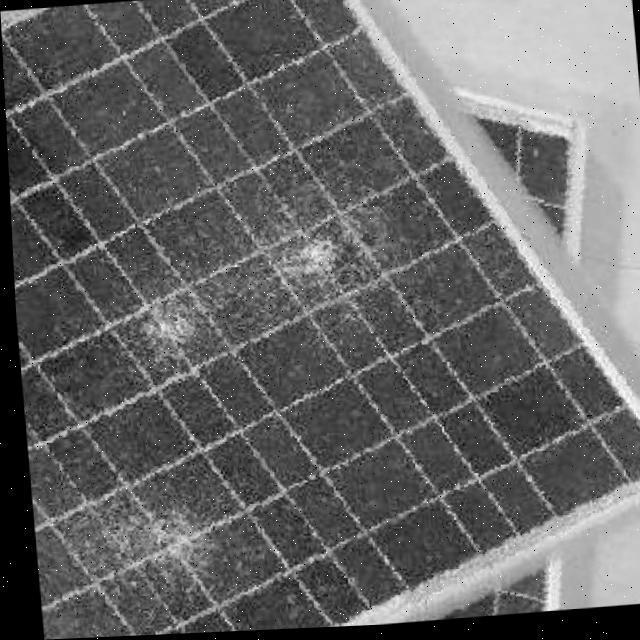Anomaly Solar Panel: (0, 0, 640, 640)
Structural Damage: (260, 184, 389, 299), (72, 499, 196, 605), (123, 280, 216, 369)
